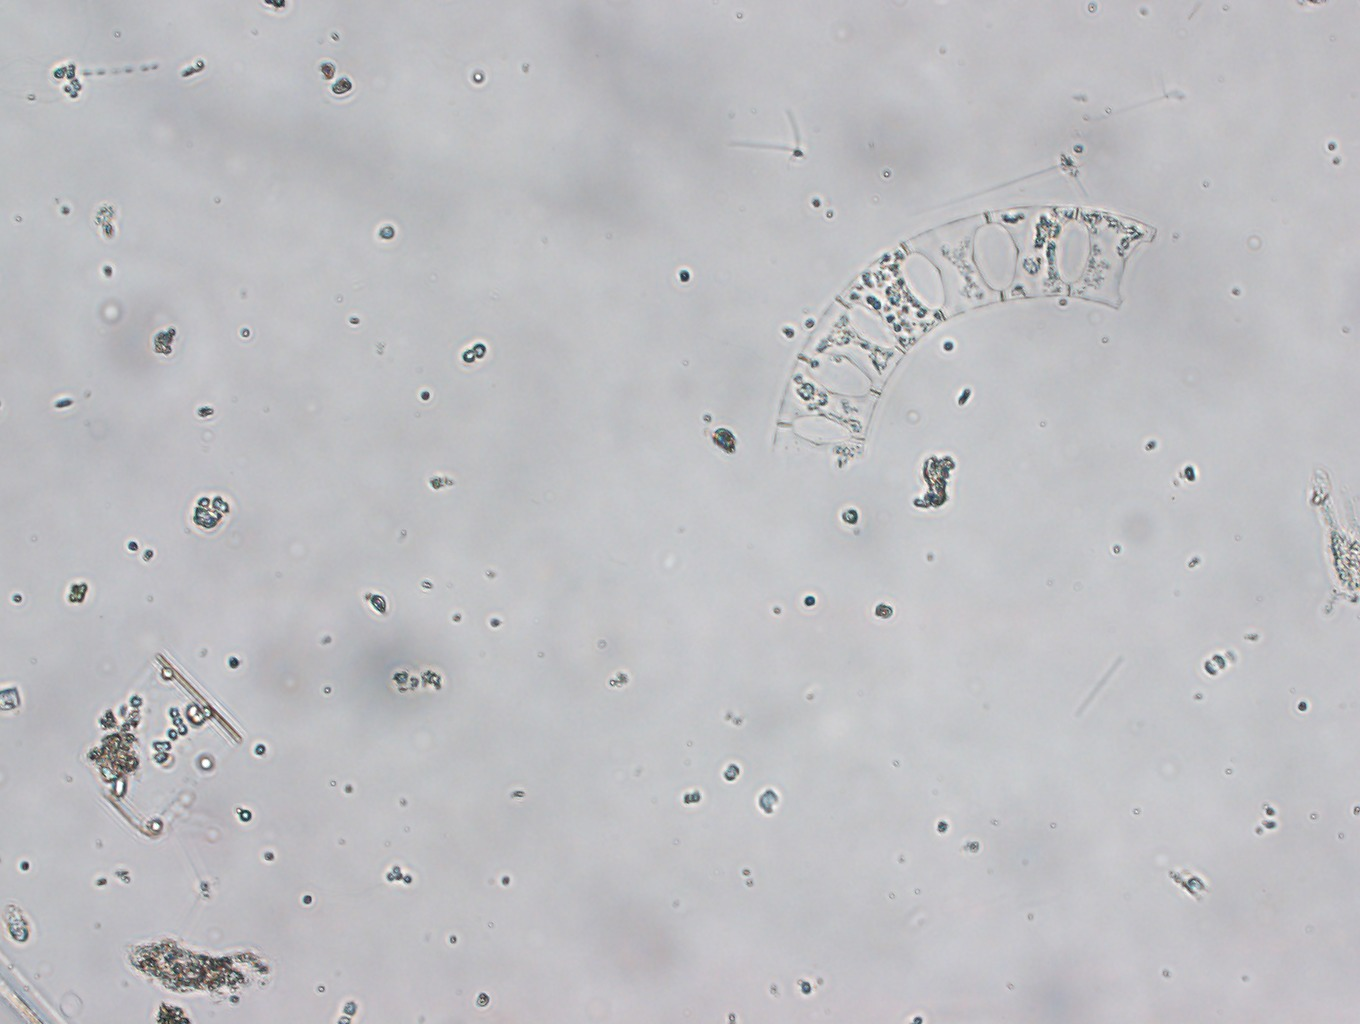eucampia: (771, 198, 1165, 496)
